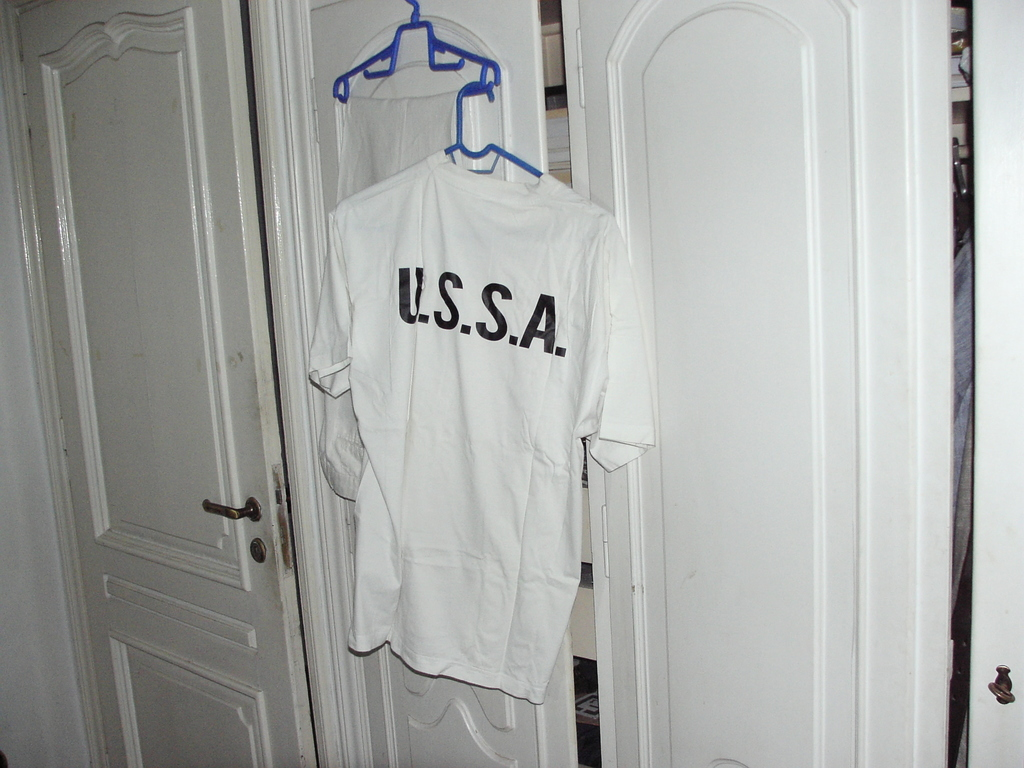door: (584, 18, 867, 768), (24, 16, 281, 755)
handle: (190, 487, 265, 525)
